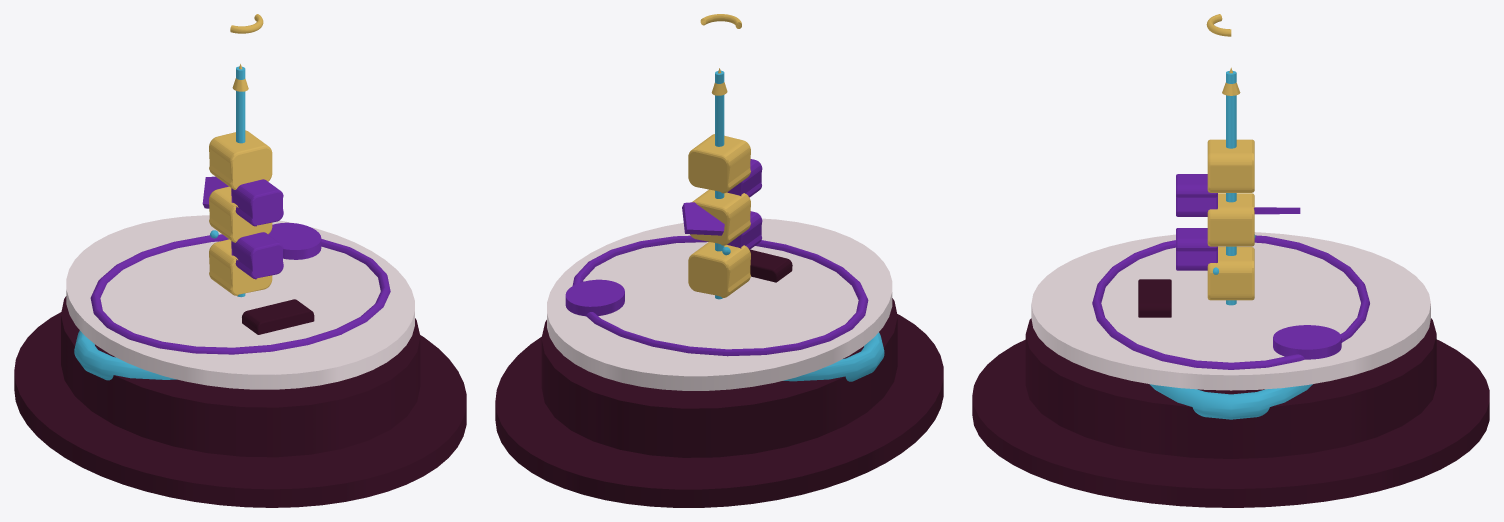
The model's file is 0327_揭秘食物图鉴_锦绣黄桃.glb.
3 views of the same model, side by side, from view 1: azimuth 30°, elevation 25°; view 2: azimuth 150°, elevation 25°; view 3: azimuth 270°, elevation 25° (orthographic). The views are drawn at different scales.
Parts seen in each view (by area): view 1: card_0327; view 2: card_0327; view 3: card_0327.
Boxes of the visible parts, left/top/right/bottom form: card_0327: left=14, top=14, right=466, bottom=507; card_0327: left=495, top=14, right=943, bottom=507; card_0327: left=972, top=14, right=1489, bottom=507.
Bounding box in the file's own units: 1.01 × 1 × 1.19.
